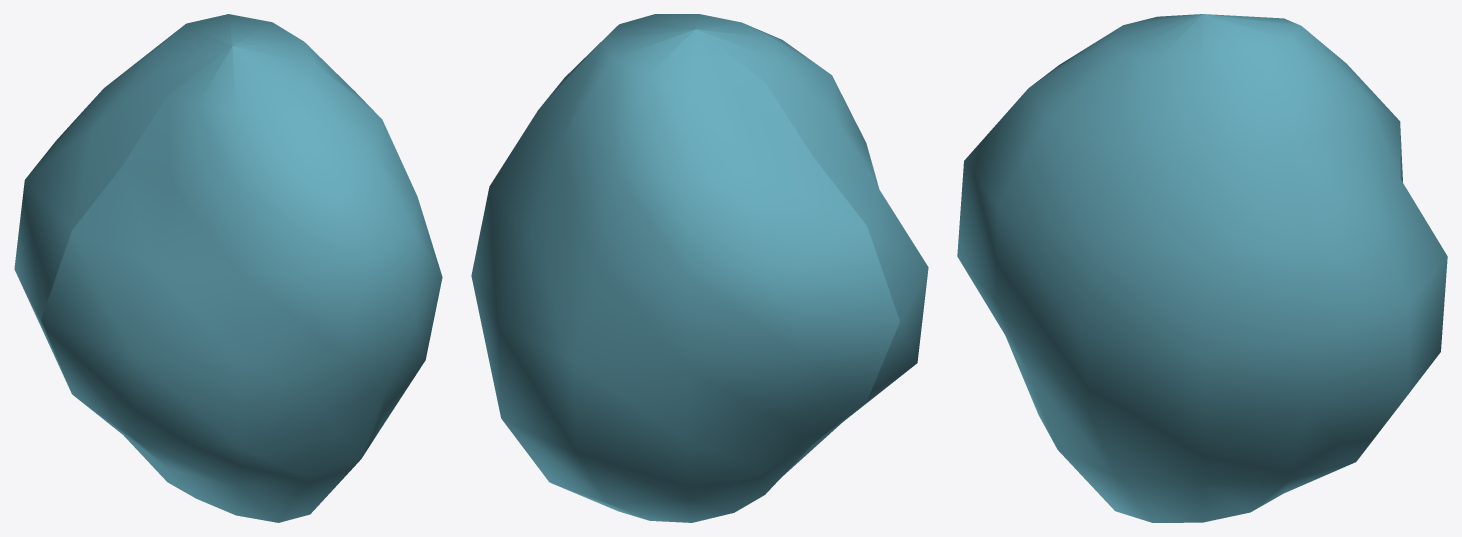
Rendered from right_trapezoid.glb.
3 renders of one model, left to right at view 1: azimuth 30°, elevation 25°; view 2: azimuth 150°, elevation 25°; view 3: azimuth 270°, elevation 25°, orthographic. The views are drawn at different scales.
Parts seen in each view (by area): view 1: right_trapezoid:body; view 2: right_trapezoid:body; view 3: right_trapezoid:body.
Part boxes in pixels (bbox=[...]): right_trapezoid:body: bbox=[14, 14, 442, 522]; right_trapezoid:body: bbox=[471, 14, 928, 522]; right_trapezoid:body: bbox=[957, 14, 1447, 522].
Size of the model in its own units: 0.0315 by 0.036 by 0.033.
